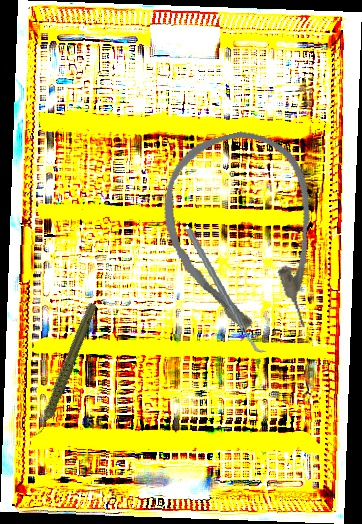Cannula: (146, 118, 343, 355)
Chopper: (183, 221, 268, 360)
Handpiece: (6, 300, 122, 440)
